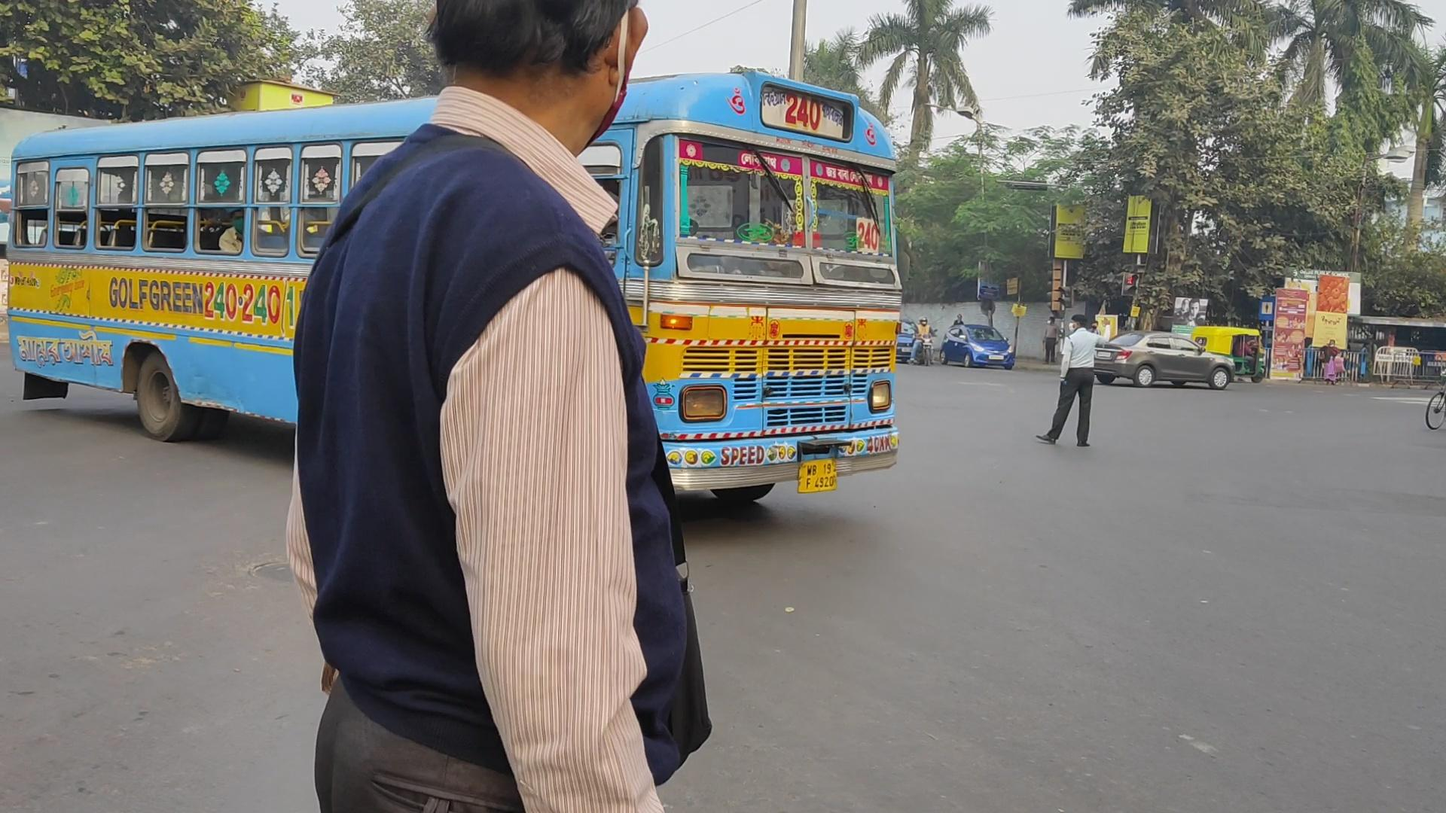Auto: (1189, 324, 1266, 383)
Bus: (8, 66, 902, 540)
car: (1092, 330, 1236, 391), (940, 323, 1016, 370)
